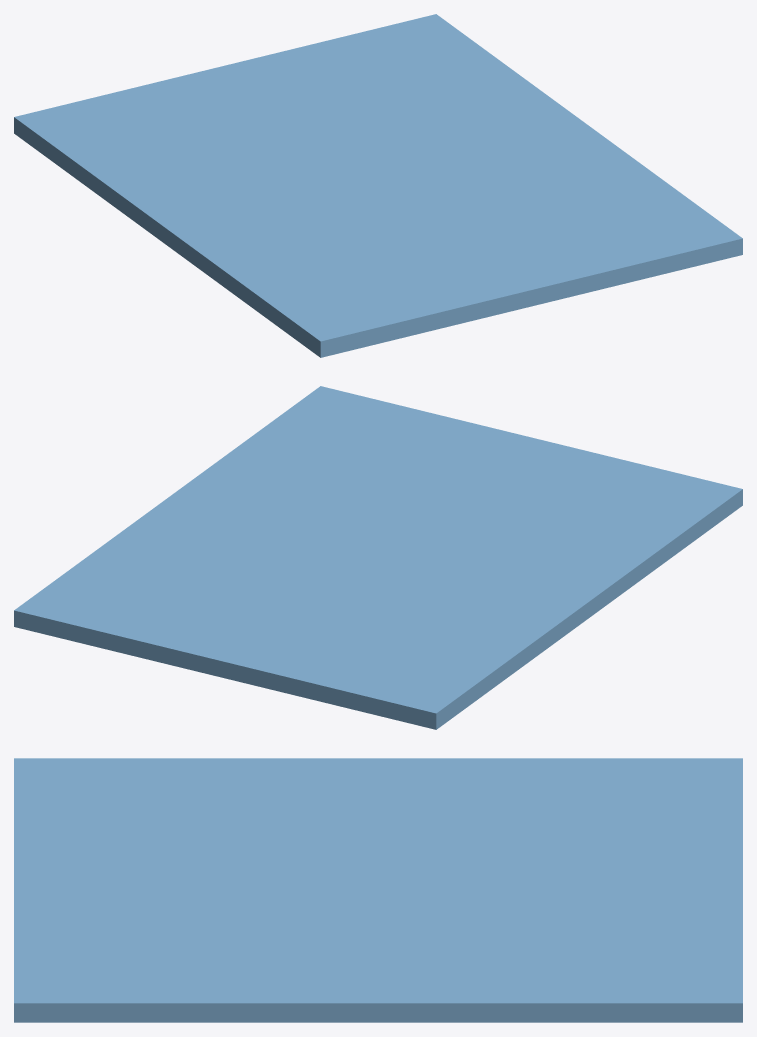
The model's file is GrassTile.FBX.
3 views of the same model, one above another, from view 1: azimuth 30°, elevation 25°; view 2: azimuth 150°, elevation 25°; view 3: azimuth 270°, elevation 25° (orthographic). The views are drawn at different scales.
Parts seen in each view (by area): view 1: GrassTile__8_; view 2: GrassTile__8_; view 3: GrassTile__8_.
Part boxes in pixels (box(x1,y1,x2,y2)): GrassTile__8_: box(14, 14, 742, 357); GrassTile__8_: box(14, 386, 742, 729); GrassTile__8_: box(14, 758, 742, 1022).
Bounding box in the file's own units: 134 × 5 × 169.
Materials: 1 (1 with a texture image).
